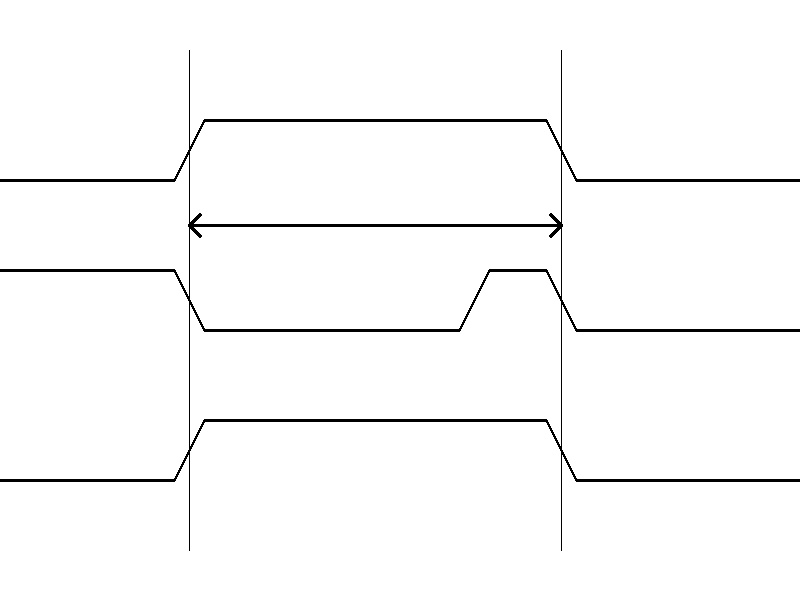double_arrow: (189, 210, 561, 240)
